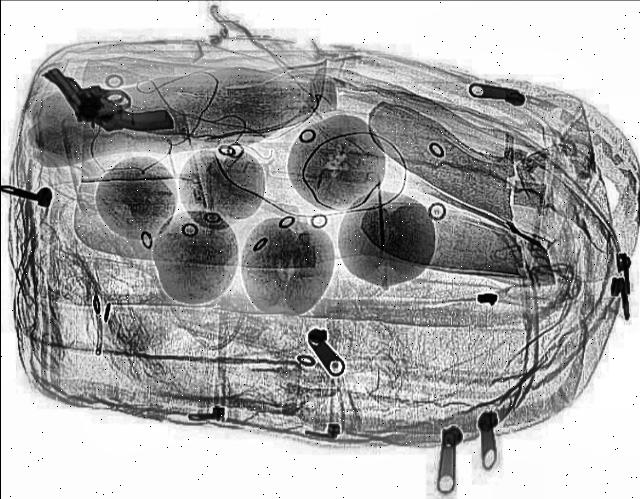Gun: (20, 58, 176, 156)
